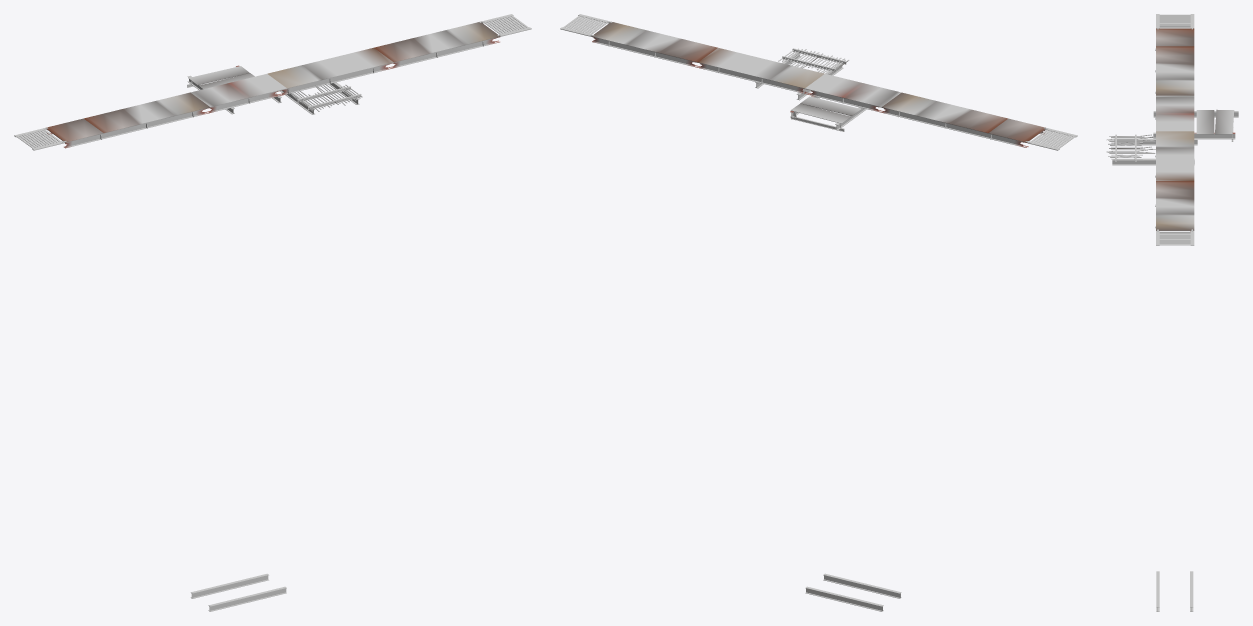
File: test_bridge.dae
3 views of the same model, side by side, from view 1: azimuth 30°, elevation 25°; view 2: azimuth 150°, elevation 25°; view 3: azimuth 270°, elevation 25° (orthographic). The views are drawn at different scales.
Parts seen in each view (by area): view 1: test_bridge, test_bridge_001, test_bridge_006; view 2: test_bridge, test_bridge_006, test_bridge_001; view 3: test_bridge, test_bridge_001, test_bridge_006, test_bridge_007, test_bridge_008.
Boxes of the visible parts, x1=… form: test_bridge: x1=46, y1=21, x2=500, y2=611; test_bridge_001: x1=280, y1=82, x2=362, y2=114; test_bridge_006: x1=187, y1=65, x2=281, y2=114; test_bridge: x1=591, y1=21, x2=1045, y2=611; test_bridge_006: x1=790, y1=96, x2=866, y2=131; test_bridge_001: x1=755, y1=48, x2=849, y2=100; test_bridge: x1=1155, y1=28, x2=1194, y2=611; test_bridge_001: x1=1106, y1=134, x2=1197, y2=165; test_bridge_006: x1=1153, y1=109, x2=1238, y2=141; test_bridge_007: x1=1156, y1=229, x2=1194, y2=245; test_bridge_008: x1=1156, y1=14, x2=1194, y2=29.
Size of the model in its own units: 52.2 by 12.6 by 50.67.
